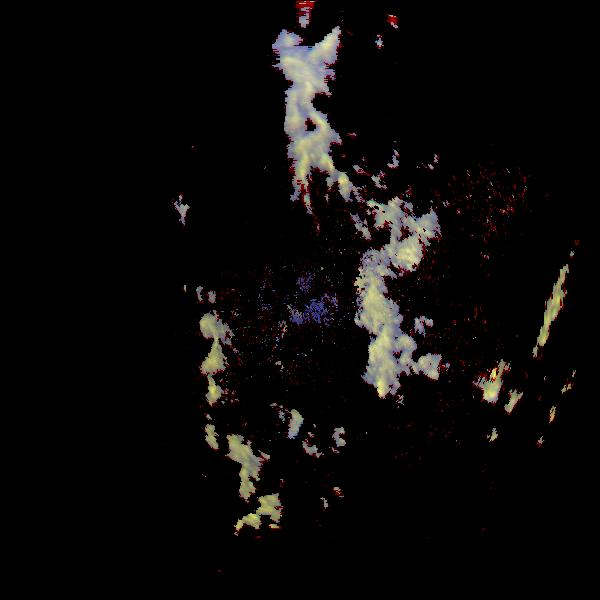roost: (275, 417, 302, 444), (280, 408, 304, 432), (314, 496, 332, 514)
